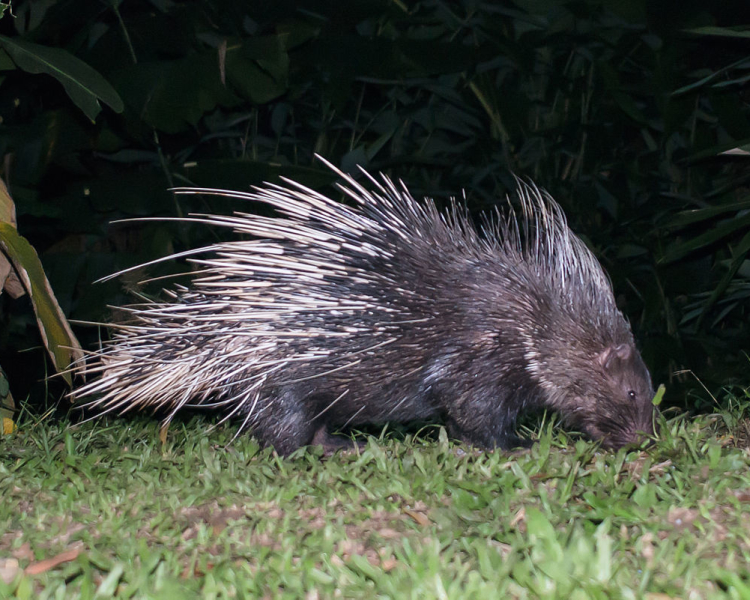porcupine: (31, 149, 704, 480)
